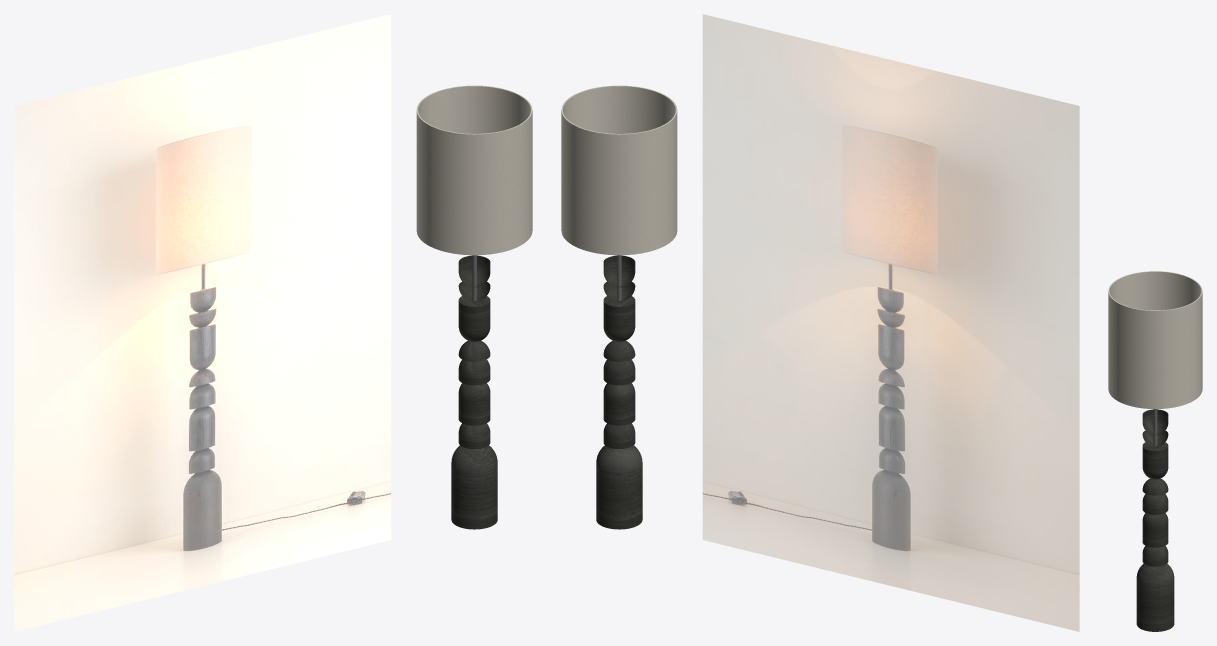
The model's file is lampada.glb.
The picture shows the model from 3 angles, left to right: view 1: azimuth 30°, elevation 25°; view 2: azimuth 150°, elevation 25°; view 3: azimuth 270°, elevation 25°; orthographic projection. The views are drawn at different scales.
Visible parts, largest first — view 1: Assembly-14, 3DGeom-8, 3DGeom-3, 3DGeom-6, 3DGeom-1, 3DGeom-4, 3DGeom-9, 3DGeom-2; view 2: Assembly-14, 3DGeom-8, 3DGeom-3, 3DGeom-6, 3DGeom-1, 3DGeom-4, 3DGeom-9, 3DGeom-2; view 3: 3DGeom-8, 3DGeom-3, 3DGeom-1, 3DGeom-6, 3DGeom-4, 3DGeom-2, 3DGeom-9, 3DGeom-7, 3DGeom-5, 3DGeom-10.
Part boxes in pixels (x1=…): Assembly-14: x1=14, y1=14, x2=391, y2=631; 3DGeom-8: x1=416, y1=85, x2=532, y2=255; 3DGeom-3: x1=451, y1=445, x2=497, y2=529; 3DGeom-6: x1=458, y1=383, x2=490, y2=425; 3DGeom-1: x1=458, y1=296, x2=490, y2=341; 3DGeom-4: x1=458, y1=255, x2=490, y2=287; 3DGeom-9: x1=458, y1=359, x2=490, y2=385; 3DGeom-2: x1=458, y1=423, x2=490, y2=448; Assembly-14: x1=702, y1=14, x2=1079, y2=631; 3DGeom-8: x1=561, y1=85, x2=677, y2=255; 3DGeom-3: x1=596, y1=445, x2=642, y2=529; 3DGeom-6: x1=603, y1=383, x2=635, y2=425; 3DGeom-1: x1=603, y1=296, x2=635, y2=341; 3DGeom-4: x1=603, y1=255, x2=635, y2=287; 3DGeom-9: x1=603, y1=359, x2=635, y2=385; 3DGeom-2: x1=603, y1=423, x2=635, y2=448; 3DGeom-8: x1=1108, y1=271, x2=1202, y2=408; 3DGeom-3: x1=1136, y1=563, x2=1174, y2=631; 3DGeom-1: x1=1142, y1=442, x2=1168, y2=479; 3DGeom-6: x1=1142, y1=513, x2=1168, y2=547; 3DGeom-4: x1=1142, y1=409, x2=1168, y2=434; 3DGeom-2: x1=1142, y1=545, x2=1168, y2=566; 3DGeom-9: x1=1142, y1=494, x2=1168, y2=514; 3DGeom-7: x1=1142, y1=478, x2=1168, y2=495; 3DGeom-5: x1=1142, y1=430, x2=1168, y2=446; 3DGeom-10: x1=1153, y1=409, x2=1157, y2=446.
Bounding box in the file's own units: 2.03 × 2 × 0.4.
5 materials, 3 textured.
